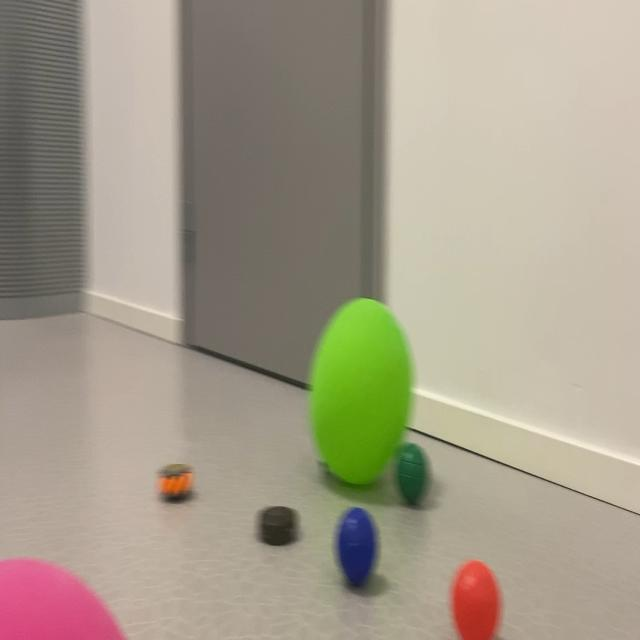blue ball: (334, 509, 382, 592)
green ball: (399, 442, 434, 506)
red ball: (442, 554, 508, 640)
